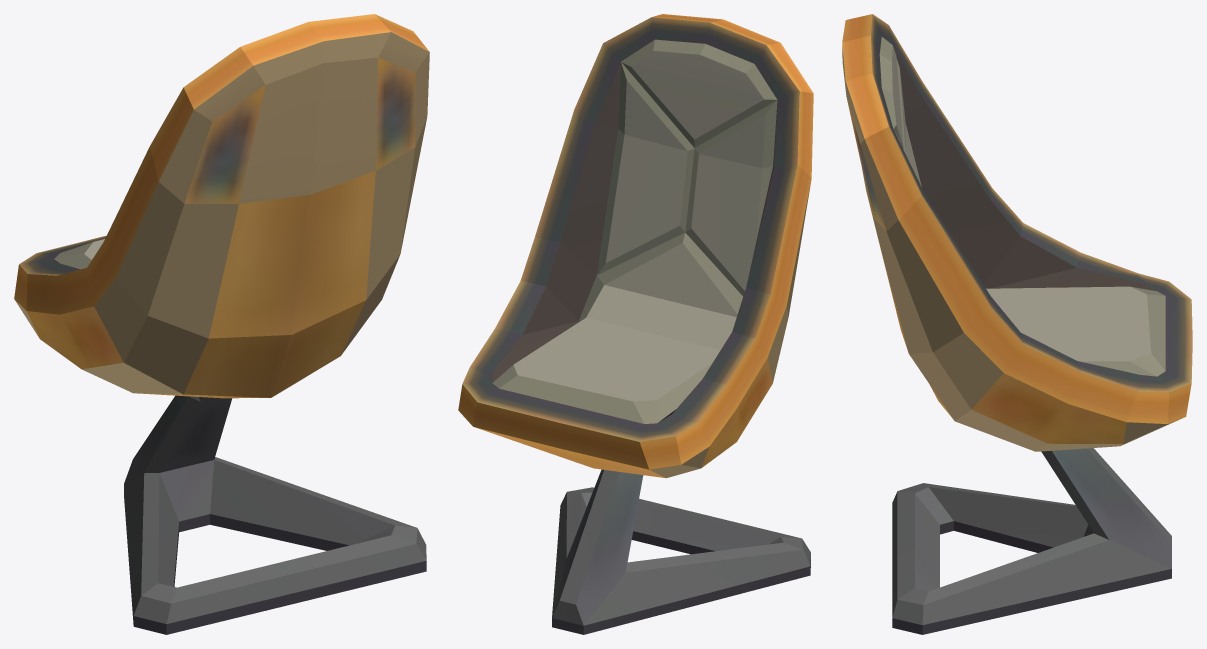
The model's file is entity760346.glb.
3 renders of one model, left to right at view 1: azimuth 30°, elevation 25°; view 2: azimuth 150°, elevation 25°; view 3: azimuth 270°, elevation 25°, orthographic. The views are drawn at different scales.
Visible parts, largest first — view 1: node_SM_Prop_Chair_03 (5); view 2: node_SM_Prop_Chair_03 (5); view 3: node_SM_Prop_Chair_03 (5).
Boxes of the visible parts, <box> form: node_SM_Prop_Chair_03 (5): <box>14,14,429,634</box>; node_SM_Prop_Chair_03 (5): <box>458,14,813,634</box>; node_SM_Prop_Chair_03 (5): <box>842,14,1192,634</box>.
Size of the model in its own units: 0.5402 by 1.04 by 0.6185.
1 material, 1 textured.
